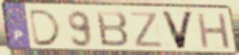9: (67, 9, 94, 48)
B: (94, 10, 131, 48)
D: (28, 8, 64, 47)
H: (195, 11, 232, 50)
V: (159, 9, 197, 51)
Z: (129, 11, 166, 49)
